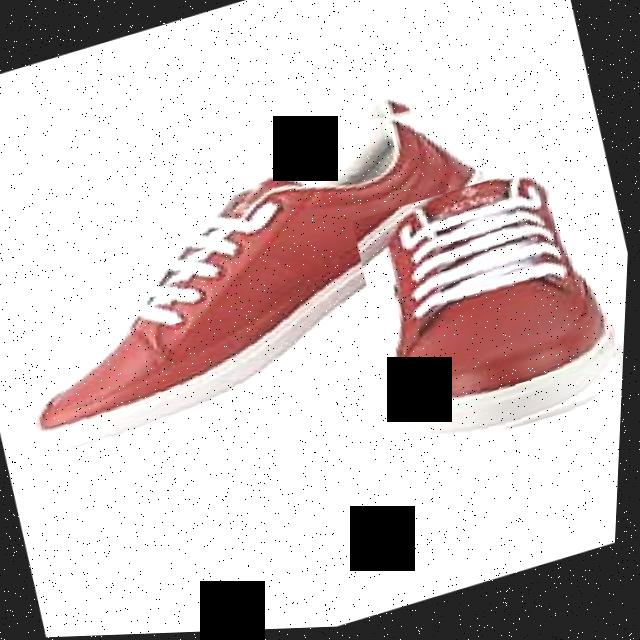shoe: (0, 74, 527, 461), (345, 155, 634, 468)
